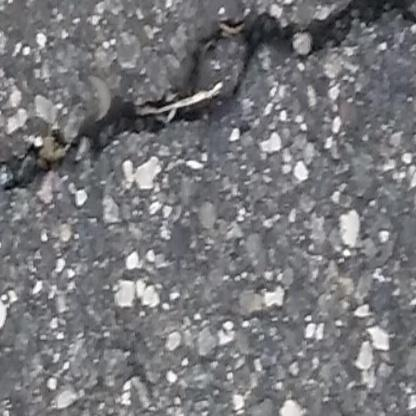Cracks: (0, 0, 416, 210)
